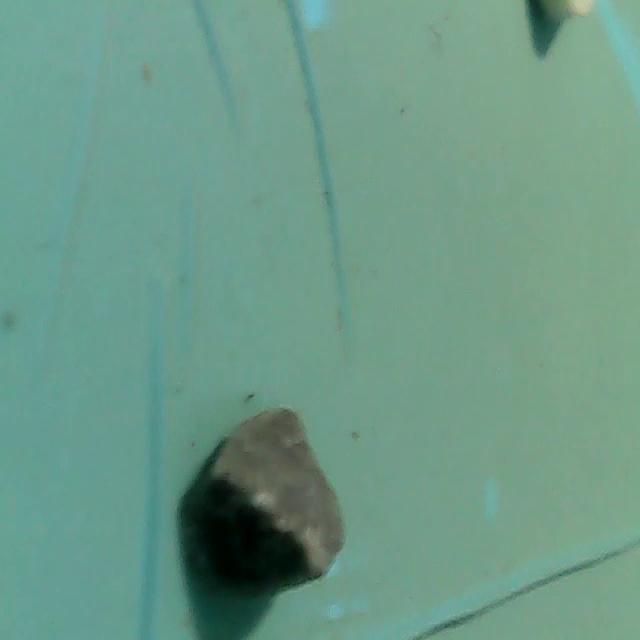rock: (176, 396, 358, 596)
